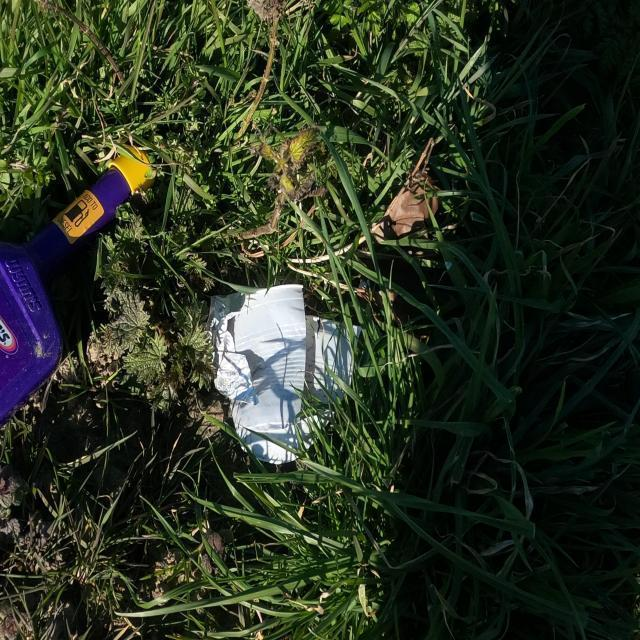Cup: (204, 281, 363, 467)
